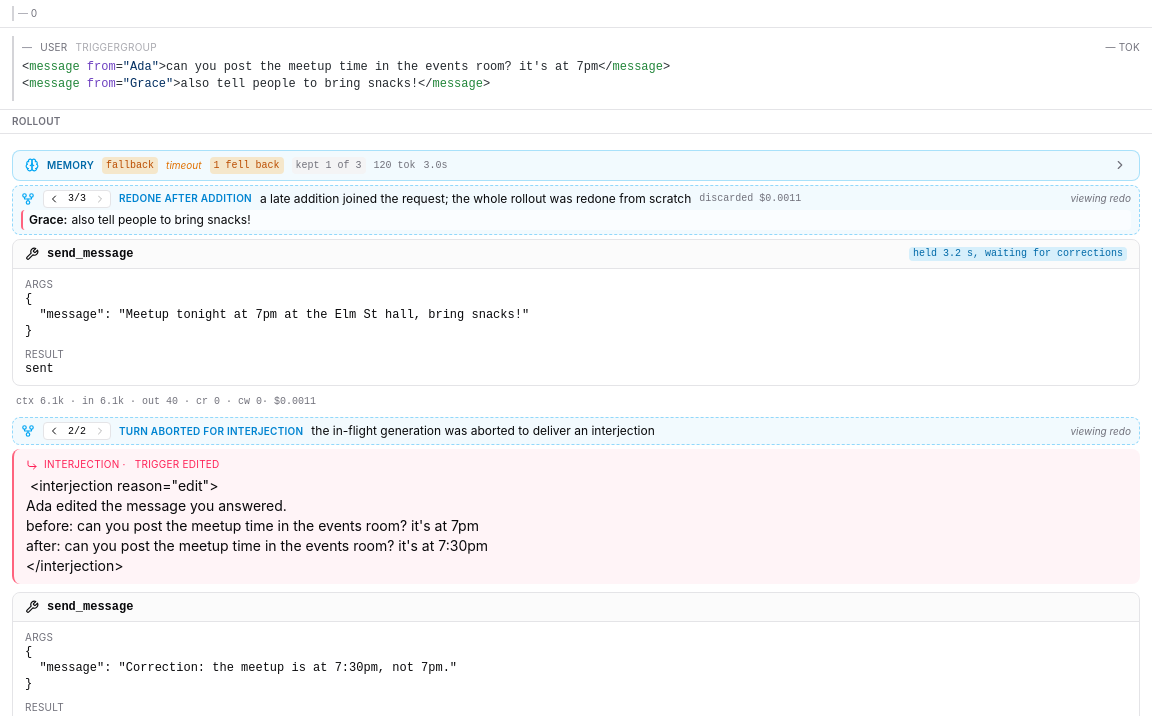
Test: SessionView renders a fallback memory build that has no decision rows
Expected: the text with test id "memory-fell-back" reads "1 fell back", top-left (214, 160), bottom-right (280, 171)
Click the button "Memory fallback timeout 1 fell back kept 1 of 3 120 tok 3.0s": click(71, 165) top-left (13, 151), bottom-right (1139, 180)
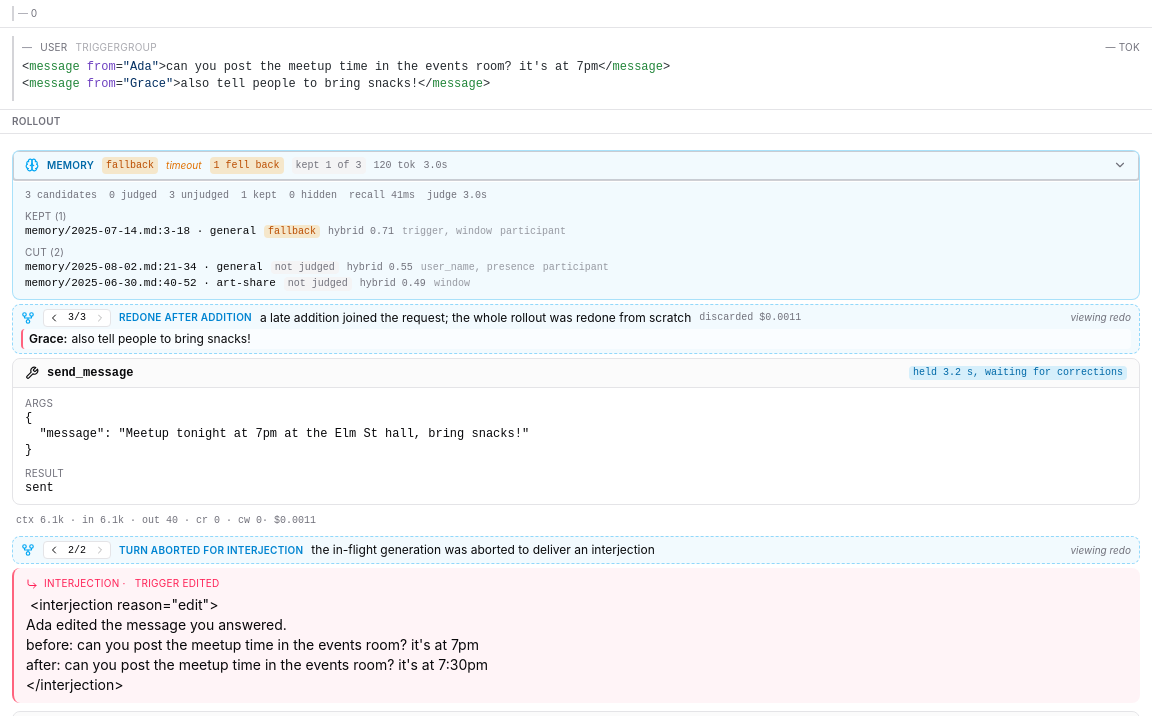
Now the text with test id "memory-selected-by" reads "fallback", box top-left (268, 226), bottom-right (316, 237)
Now the element with test id "memory-retrieval-card" shows "3 unjudged", box top-left (169, 190), bottom-right (229, 201)
